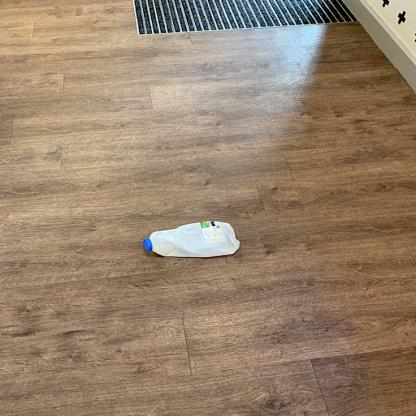trash: (142, 221, 243, 258)
